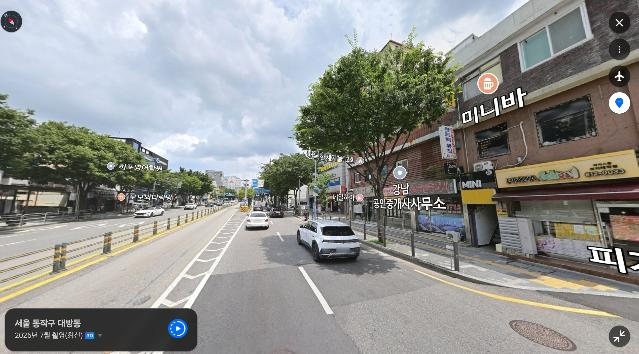other: (290, 25, 471, 246), (22, 118, 143, 220), (0, 92, 60, 222), (257, 149, 315, 220), (140, 166, 183, 211), (173, 169, 204, 210), (192, 170, 217, 207)
